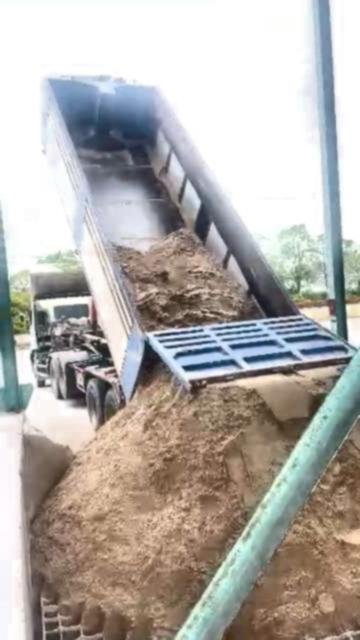sand: (24, 356, 337, 639), (225, 427, 360, 639), (119, 232, 256, 329)
